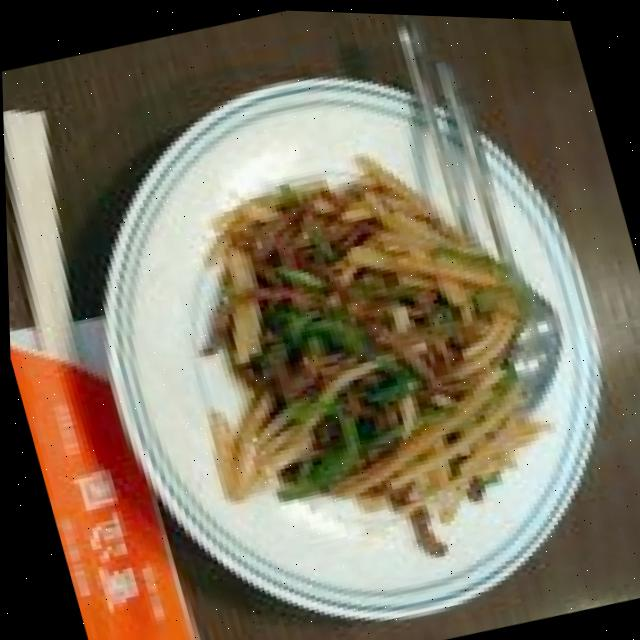牛肉菜式: (0, 0, 487, 615)
